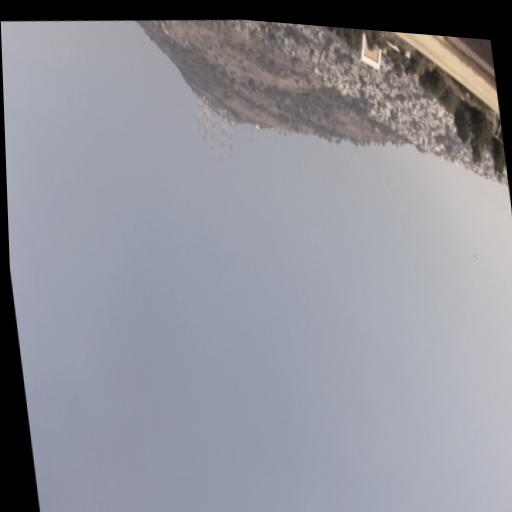drones: (471, 251, 479, 262)
